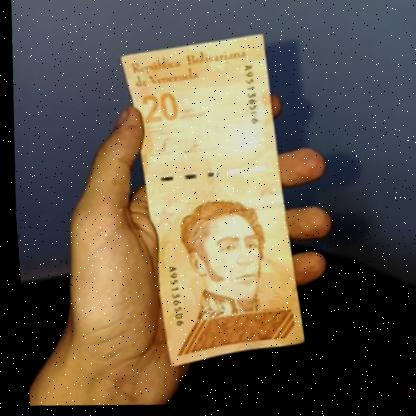twenty-front-vef: (102, 29, 316, 377)
